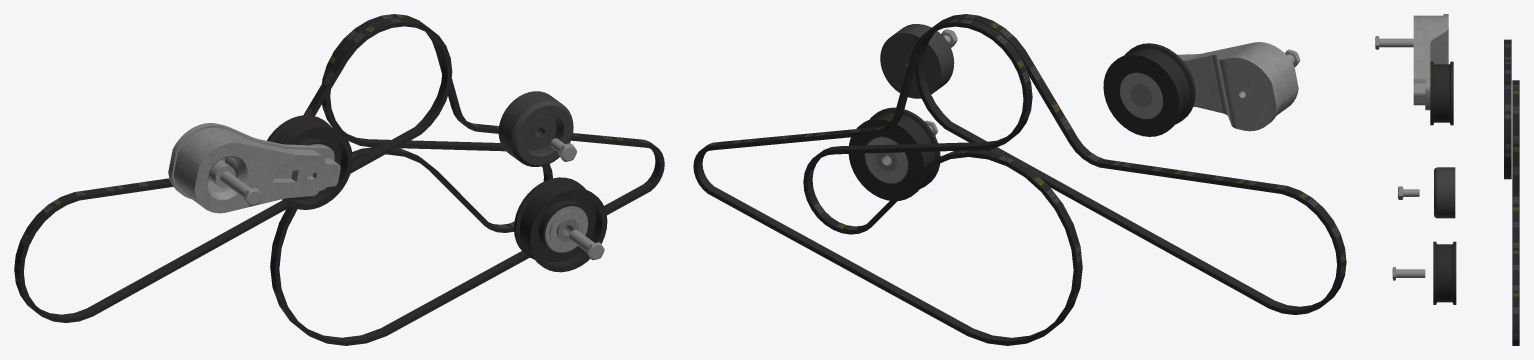
The model's file is beltTens.glb.
The picture shows the model from 3 angles, left to right: view 1: azimuth 30°, elevation 25°; view 2: azimuth 150°, elevation 25°; view 3: azimuth 270°, elevation 25°; orthographic projection. The views are drawn at different scales.
Visible parts, largest first — view 1: v8_napinacz(0), v8_coyote_pasek_1(0), v8_coyote_pasek_2(0), rolka_prowadzaca(0), rolka_gladka(0), Obj_srubaSilnikDluga_0, srubaSilnikDluga_0; view 2: v8_coyote_pasek_1(0), v8_napinacz(0), v8_coyote_pasek_2(0), rolka_prowadzaca(0), rolka_gladka(0); view 3: v8_napinacz(0), v8_coyote_pasek_1(0), rolka_prowadzaca(0), rolka_gladka(0), v8_coyote_pasek_2(0), Obj_srubaSilnikDluga_0, srubaSilnikDluga_0, srubaSilnik_0.
Boxes of the visible parts, x1=… form: v8_napinacz(0): x1=168, y1=115, x2=352, y2=213; v8_coyote_pasek_1(0): x1=270, y1=14, x2=664, y2=345; v8_coyote_pasek_2(0): x1=14, y1=18, x2=452, y2=322; rolka_prowadzaca(0): x1=514, y1=177, x2=607, y2=272; rolka_gladka(0): x1=498, y1=91, x2=573, y2=166; Obj_srubaSilnikDluga_0: x1=220, y1=171, x2=261, y2=206; srubaSilnikDluga_0: x1=569, y1=230, x2=604, y2=260; v8_coyote_pasek_1(0): x1=693, y1=18, x2=1082, y2=345; v8_napinacz(0): x1=1103, y1=42, x2=1298, y2=136; v8_coyote_pasek_2(0): x1=915, y1=14, x2=1346, y2=314; rolka_prowadzaca(0): x1=848, y1=107, x2=940, y2=200; rolka_gladka(0): x1=880, y1=24, x2=954, y2=98; v8_napinacz(0): x1=1413, y1=14, x2=1453, y2=125; v8_coyote_pasek_1(0): x1=1512, y1=80, x2=1519, y2=345; rolka_prowadzaca(0): x1=1433, y1=241, x2=1456, y2=304; rolka_gladka(0): x1=1434, y1=167, x2=1455, y2=218; v8_coyote_pasek_2(0): x1=1504, y1=39, x2=1511, y2=179; Obj_srubaSilnikDluga_0: x1=1375, y1=36, x2=1413, y2=49; srubaSilnikDluga_0: x1=1392, y1=267, x2=1425, y2=280; srubaSilnik_0: x1=1398, y1=186, x2=1419, y2=199.
Bounding box in the file's own units: 0.0126 × 0.00591 × 0.00339.
Materials: 5 (4 with a texture image).
